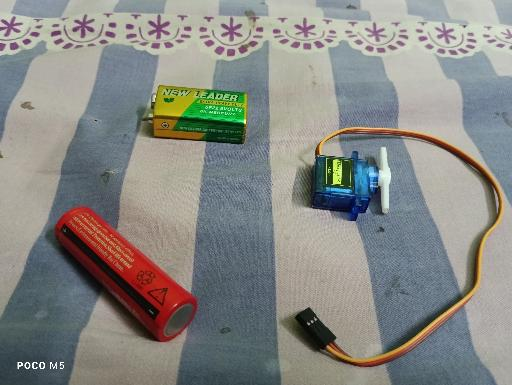Battery: (53, 206, 198, 343), (147, 84, 247, 145)
Motor: (312, 147, 391, 221)
